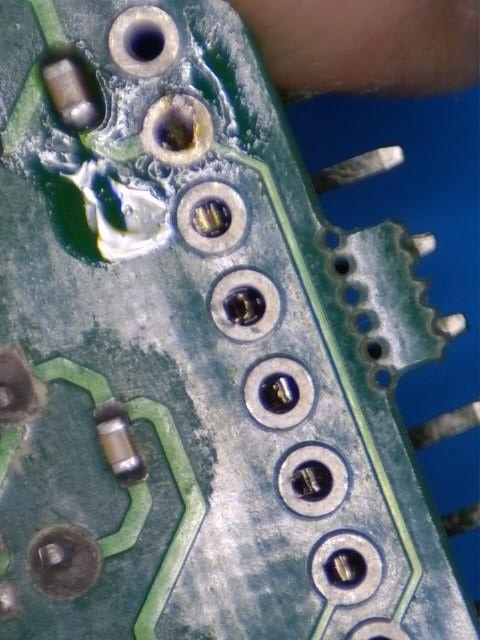pcb_defect: (144, 94, 214, 163)
